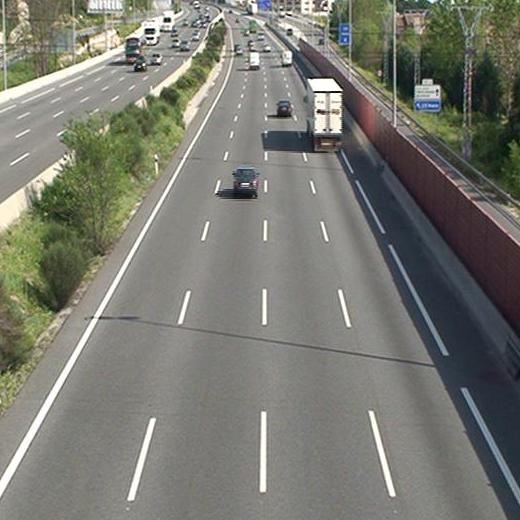car: (232, 167, 258, 195), (276, 99, 292, 116)
truck: (306, 78, 342, 151)
van: (249, 53, 261, 69), (281, 50, 292, 65)
